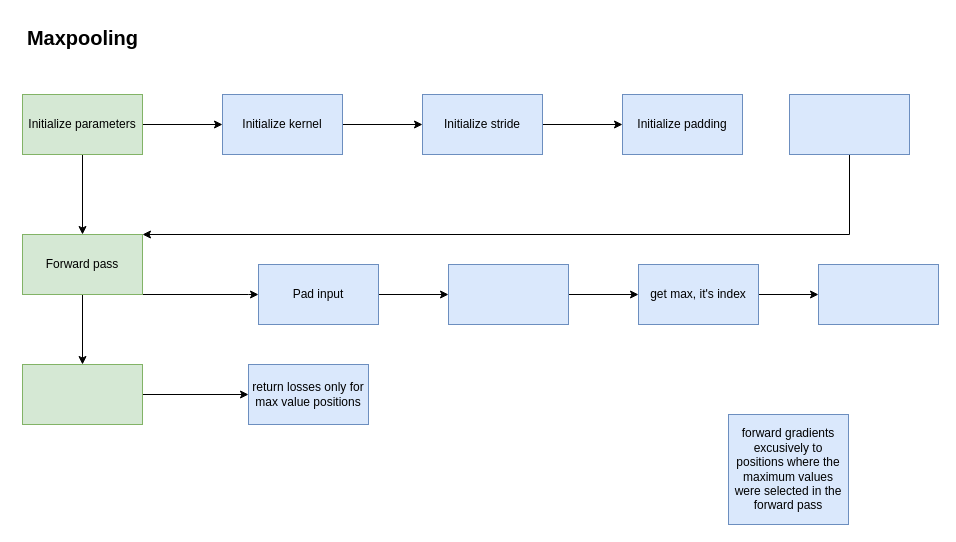
This 956x542 diagram has some shape labels left out. The centre of each missing label's shape, as x and y in pixels:
"backward pass" belongs at point 82,394.
"Copy to new matrix" belongs at point 878,294.
"for every pixel" belongs at point 508,294.
"Initialize cache for backward pass" belongs at point 849,124.
